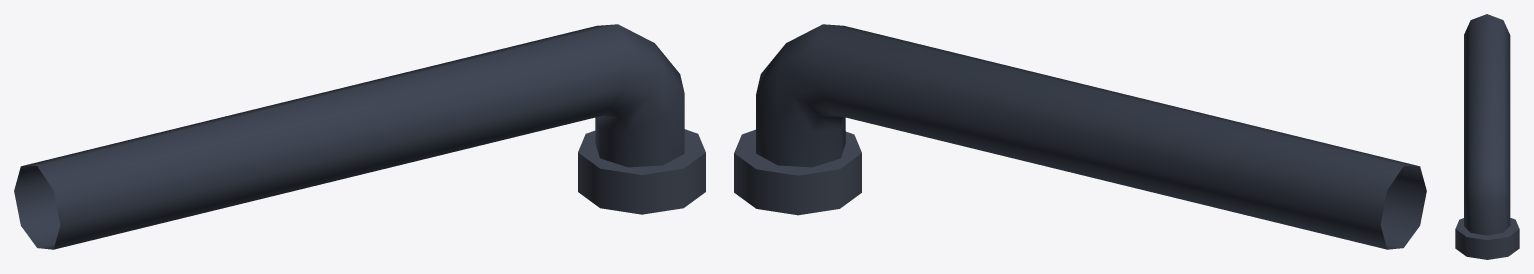
The model's file is Pipe_1_F_2_2.fbx.
The picture shows the model from 3 angles, left to right: view 1: azimuth 30°, elevation 25°; view 2: azimuth 150°, elevation 25°; view 3: azimuth 270°, elevation 25°; orthographic projection. The views are drawn at different scales.
Parts seen in each view (by area): view 1: Pipe_1_F_2_2; view 2: Pipe_1_F_2_2; view 3: Pipe_1_F_2_2.
Boxes of the visible parts, left/top/right/bottom form: Pipe_1_F_2_2: left=14, top=24, right=705, bottom=249; Pipe_1_F_2_2: left=734, top=24, right=1426, bottom=249; Pipe_1_F_2_2: left=1455, top=14, right=1519, bottom=259.
Bounding box in the file's own units: 180 × 43.92 × 30.12.
